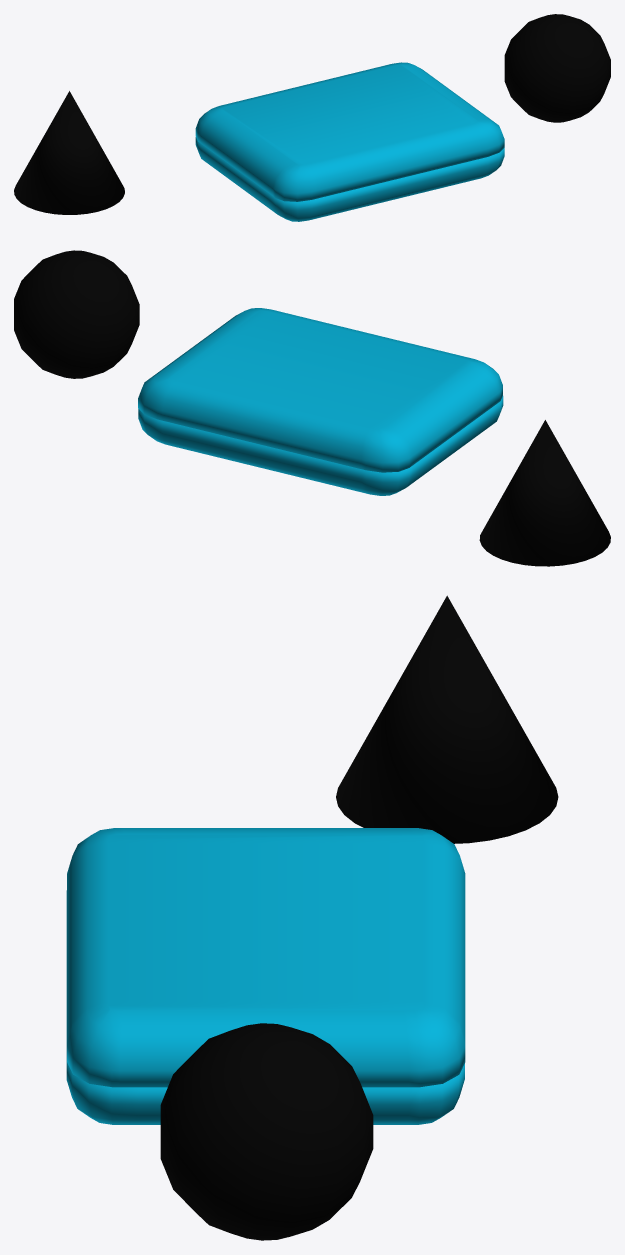
Rendered from labonumerique.glb.
3 renders of one model, top to bottom at view 1: azimuth 30°, elevation 25°; view 2: azimuth 150°, elevation 25°; view 3: azimuth 270°, elevation 25°, orthographic. The views are drawn at different scales.
Parts seen in each view (by area): view 1: Plane.001, Sphere, Cone, Plane.002; view 2: Plane.001, Sphere, Cone, Plane.002; view 3: Plane.001, Sphere, Cone, Plane.002.
Boxes of the visible parts, x1=… form: Plane.001: x1=195, y1=62, x2=504, y2=201; Sphere: x1=504, y1=14, x2=610, y2=122; Cone: x1=14, y1=91, x2=124, y2=214; Plane.002: x1=195, y1=137, x2=504, y2=221; Plane.001: x1=138, y1=308, x2=502, y2=472; Sphere: x1=14, y1=250, x2=139, y2=378; Cone: x1=479, y1=420, x2=610, y2=566; Plane.002: x1=138, y1=396, x2=503, y2=495; Plane.001: x1=67, y1=828, x2=465, y2=1087; Sphere: x1=160, y1=1023, x2=373, y2=1240; Cone: x1=336, y1=595, x2=558, y2=843; Plane.002: x1=66, y1=890, x2=464, y2=1124.
Size of the model in its own units: 2.95 by 0.5398 by 1.17.
